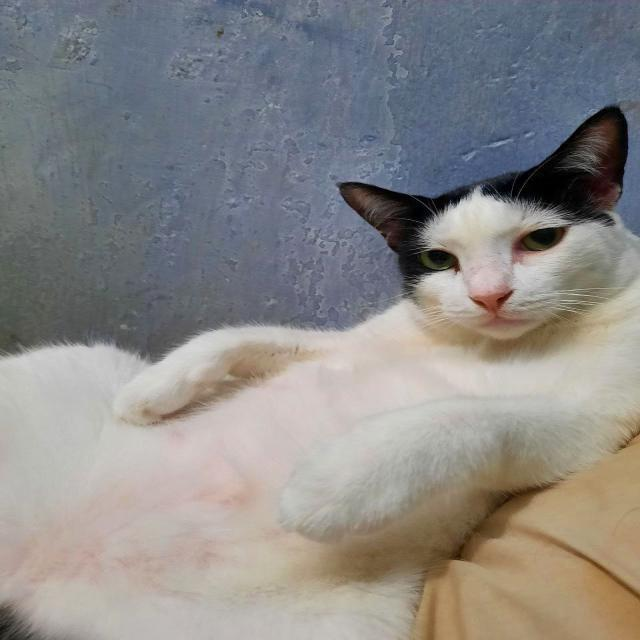da khoe manh: (0, 372, 494, 640)
